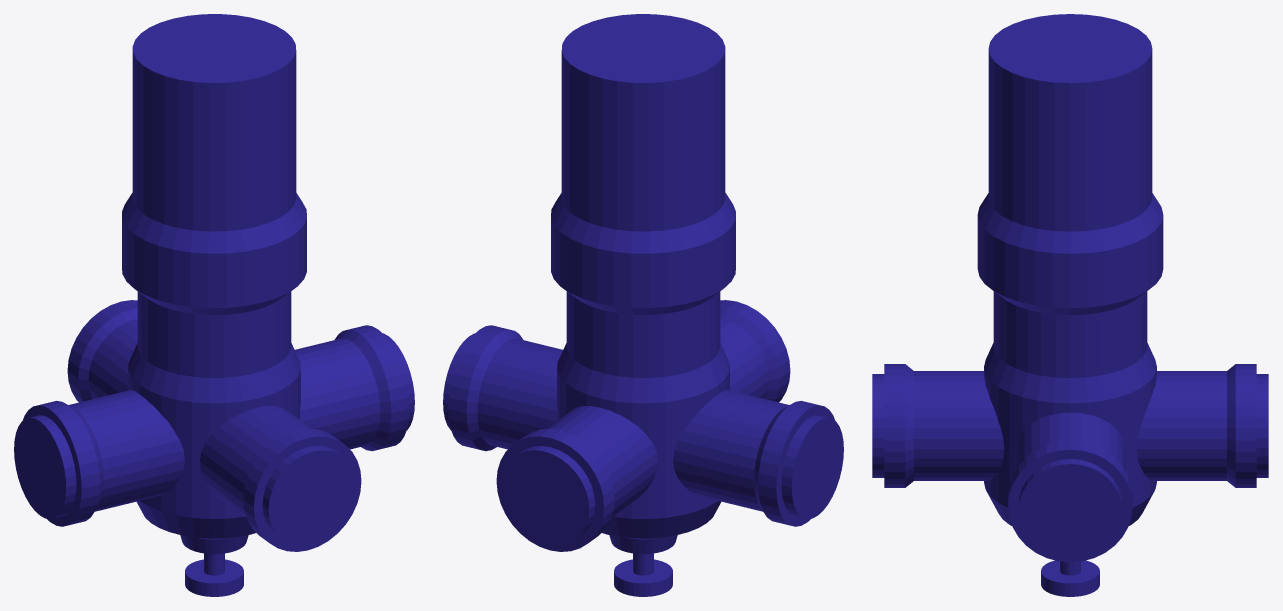
Rendered from wellhead.obj.
The picture shows the model from 3 angles, left to right: view 1: azimuth 30°, elevation 25°; view 2: azimuth 150°, elevation 25°; view 3: azimuth 270°, elevation 25°; orthographic projection.
Parts seen in each view (by area): view 1: Cube; view 2: Cube; view 3: Cube.
Part boxes in pixels (<box>): Cube: <box>14,14,414,596</box>; Cube: <box>443,14,843,596</box>; Cube: <box>872,14,1268,596</box>.
Bounding box in the file's own units: 1.97 × 2.9 × 1.94.
